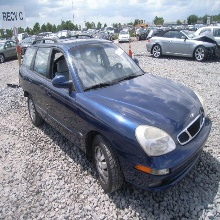no damage: (19, 36, 212, 196)
